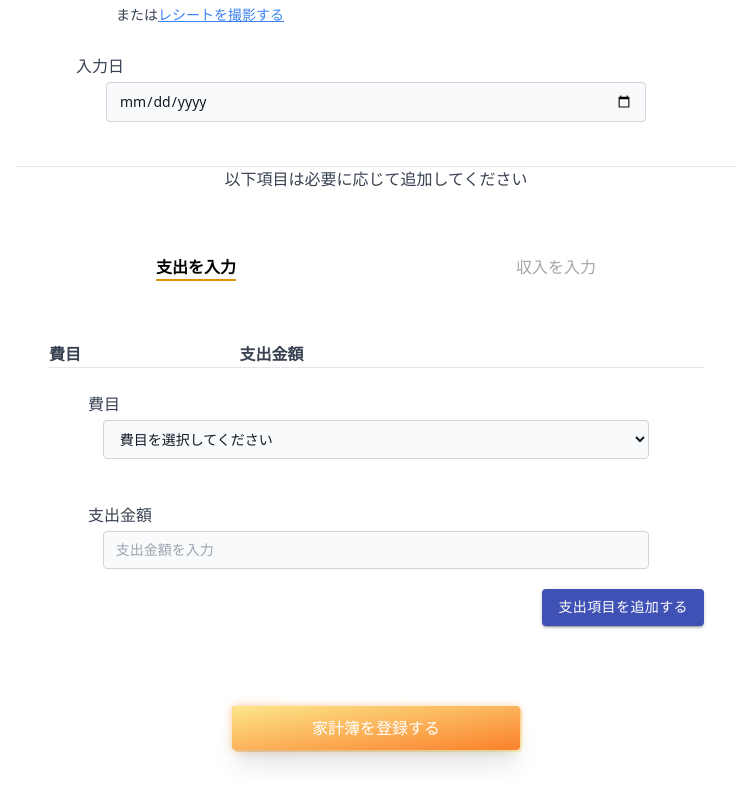
Test: AccountBookForm Components Test Cases › SShould display an error if the entered value is invalid
The width and height of the screenshot is (753, 800).
(page scrolled)
Click the button with test id "button-submit" at point(376, 728), box [232, 706, 520, 750]
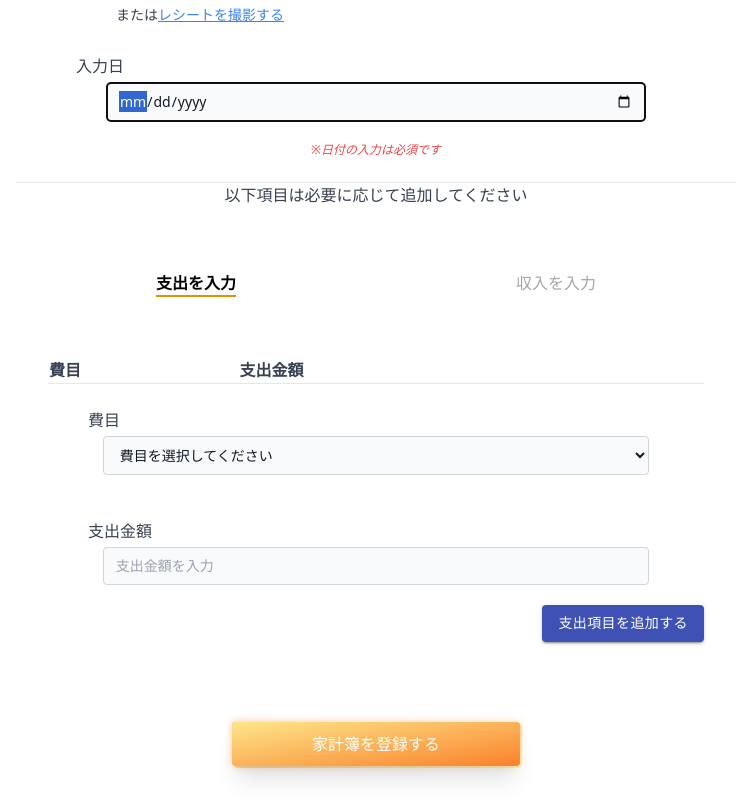
Result: the number of messages is 1 at [311, 141, 441, 158]
